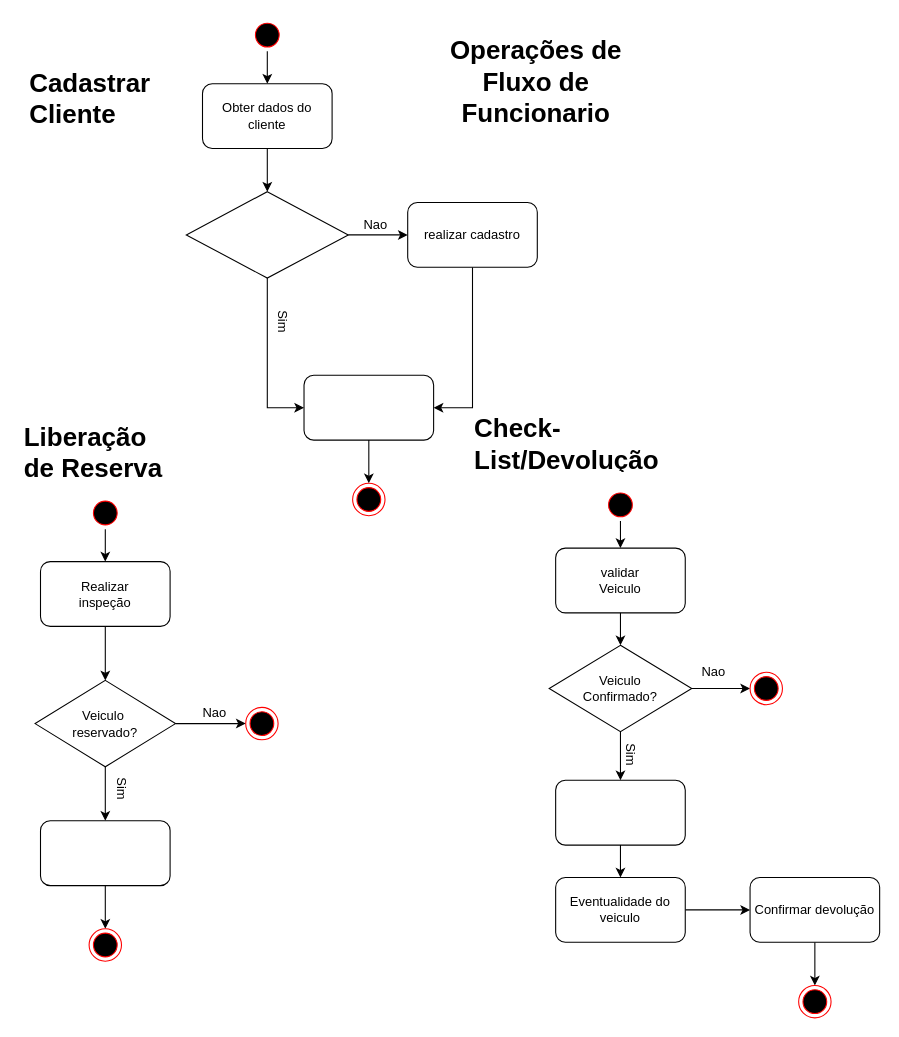
Some shapes in this 899 by 1037 pixel diagram are drawn without their labels. The centre of each missing label's shape, as x and y in pixels:
"Cadastro Realizado" goes at [368,407].
"cliente cadastrado?" goes at [266,234].
"Liberar Veiculo" goes at [104,853].
"Realizar Chech-list" goes at [620,812].
